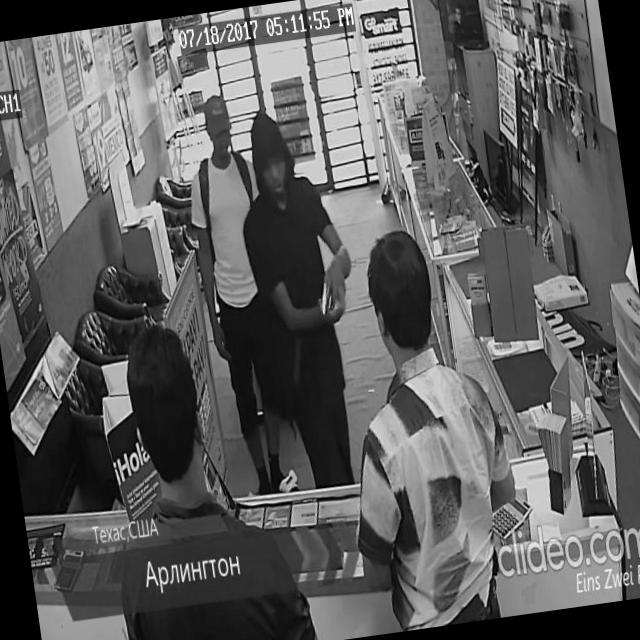gun: (314, 268, 348, 328)
person: (172, 88, 306, 500)
person with a gun: (227, 100, 381, 490)
